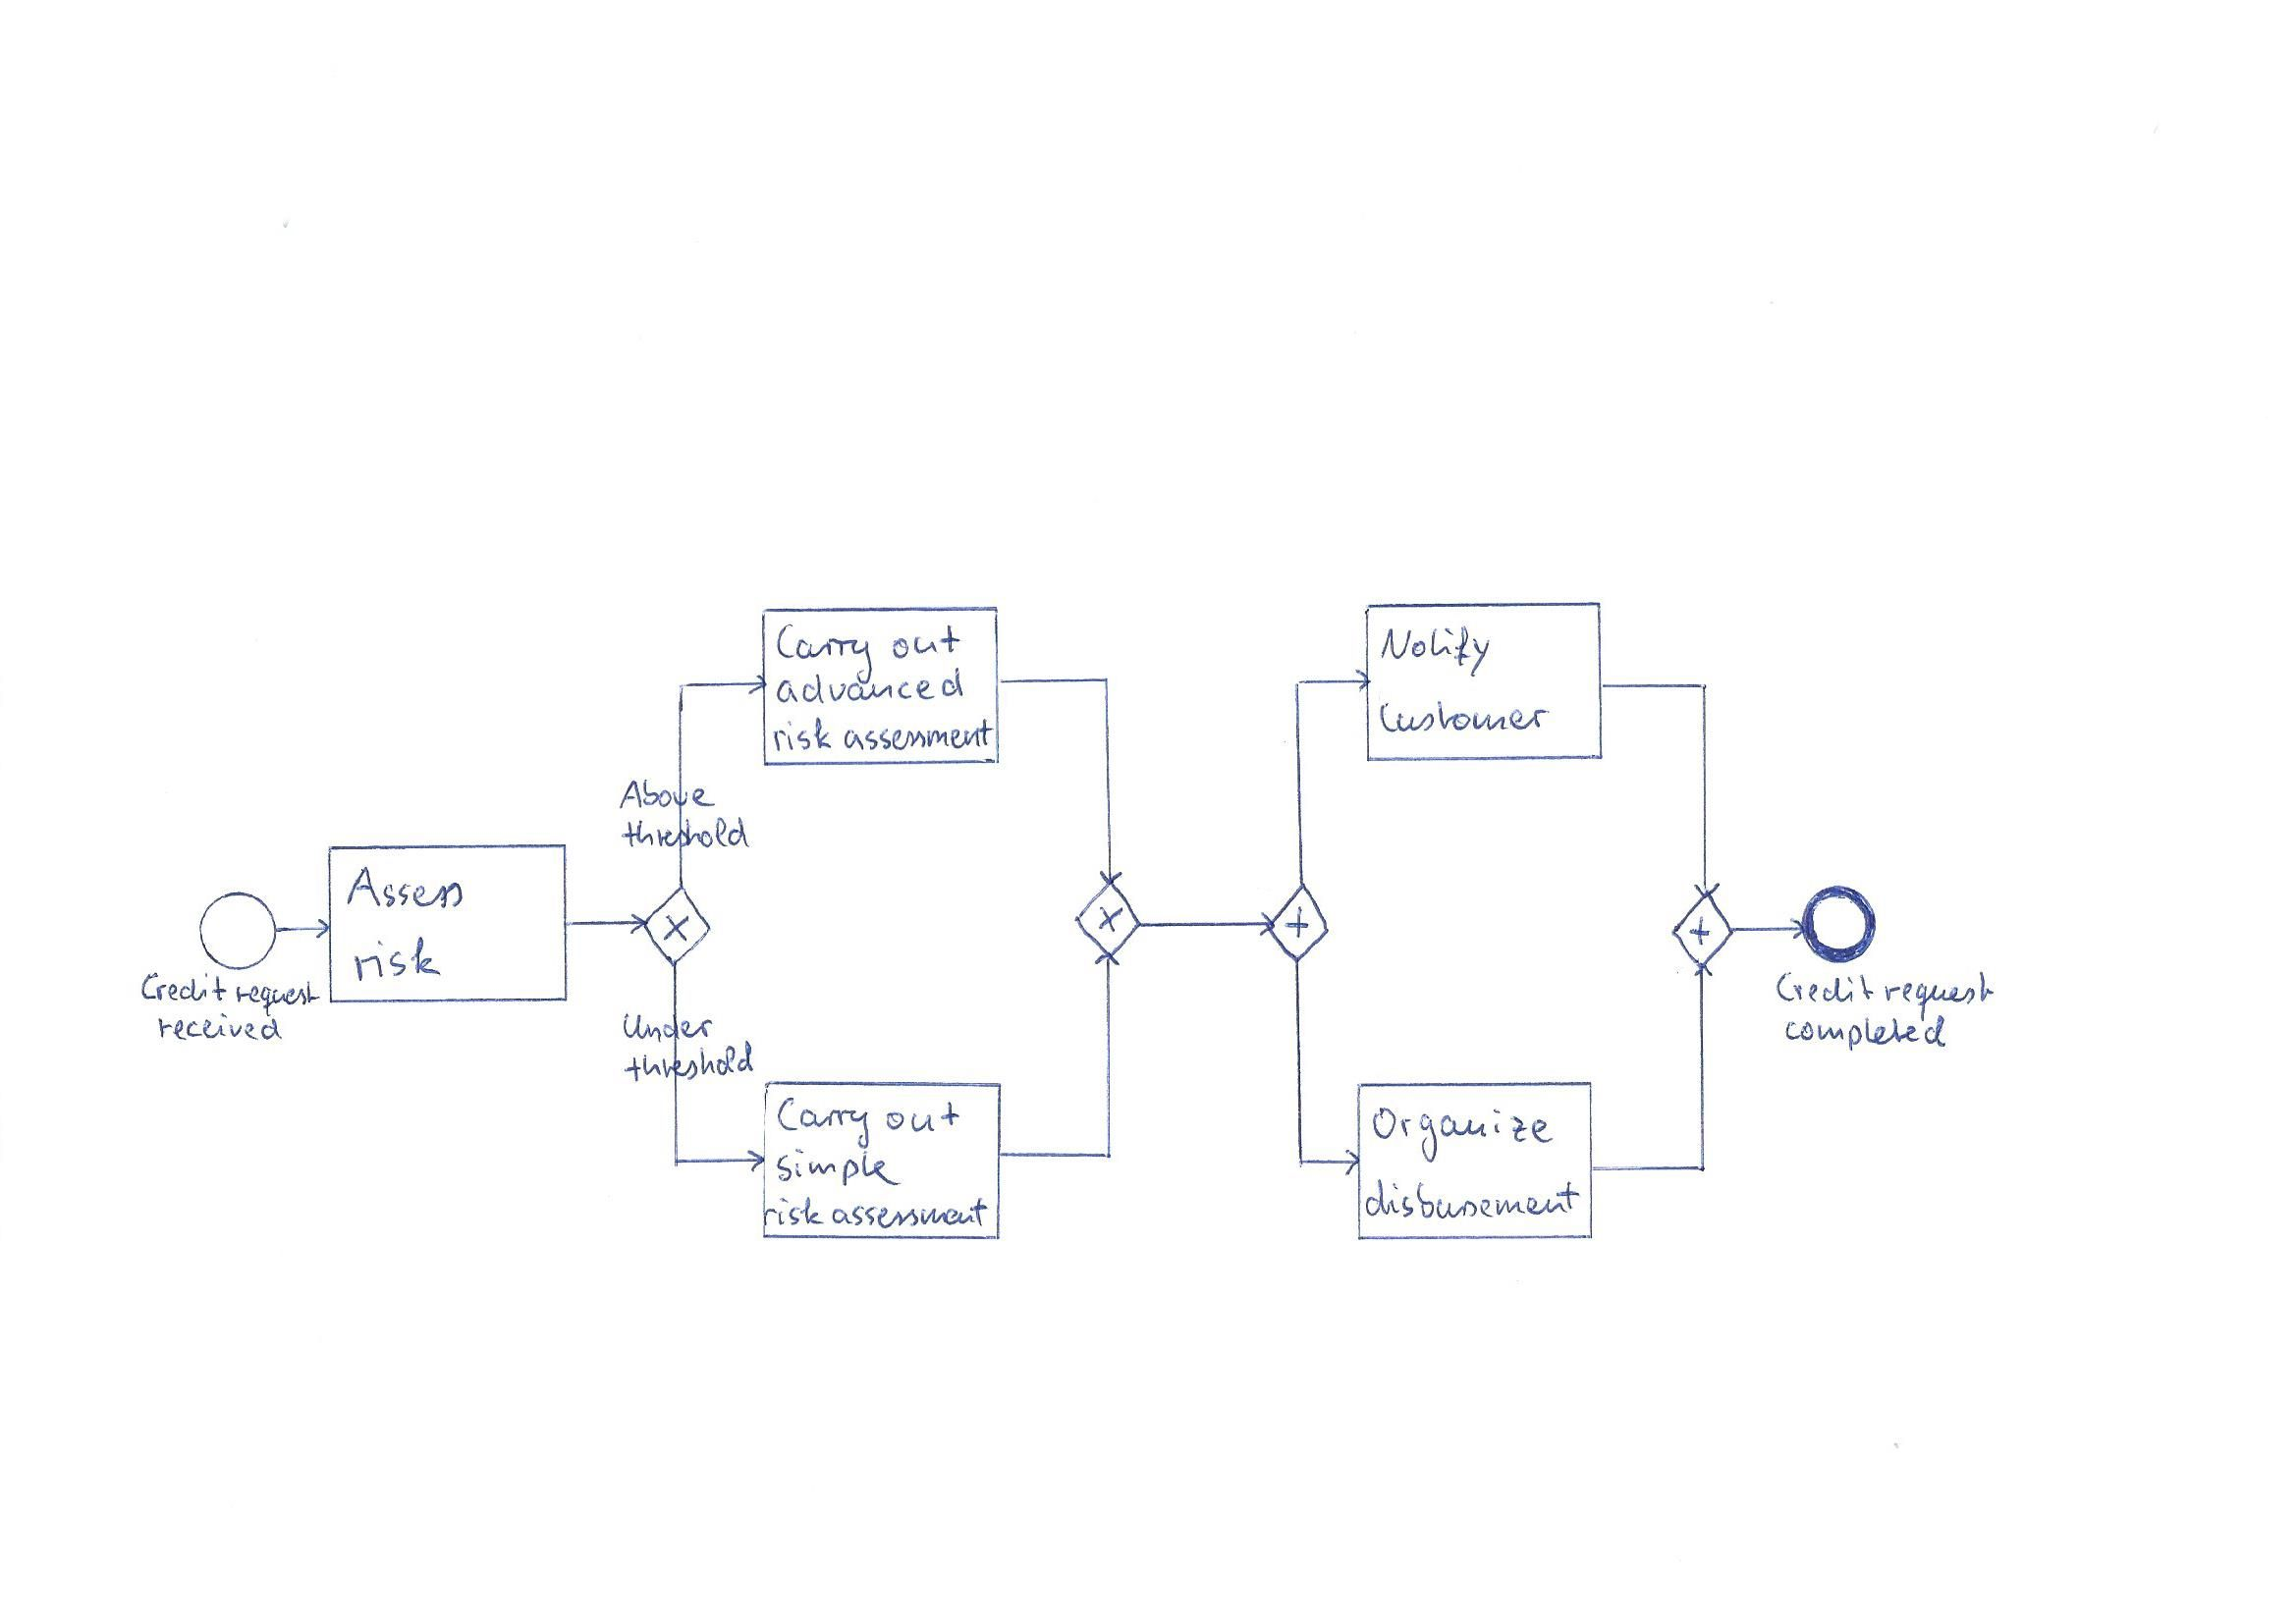Above: (614, 777, 719, 814)
Assess: (341, 863, 466, 912)
Carry: (772, 620, 884, 689), (774, 1093, 874, 1155)
Credit: (1772, 968, 1879, 1009), (137, 968, 230, 1011)
Customer: (1375, 698, 1556, 738)
Notify: (1377, 622, 1493, 680)
Organize: (1368, 1102, 1556, 1167)
Under: (619, 1011, 719, 1048)
advanced: (772, 664, 969, 708)
assessment: (826, 1193, 992, 1230), (840, 717, 995, 756)
completed: (1781, 1011, 1953, 1055)
disbursement: (1362, 1176, 1584, 1225)
out: (888, 622, 965, 664), (881, 1098, 962, 1137)
received: (153, 1009, 287, 1046)
request: (1881, 967, 1999, 1025), (232, 977, 323, 1019)
risk: (348, 933, 447, 986), (768, 714, 835, 756), (759, 1193, 826, 1229)
simple: (770, 1144, 904, 1192)
threshold: (619, 1040, 758, 1086), (617, 814, 756, 852)
